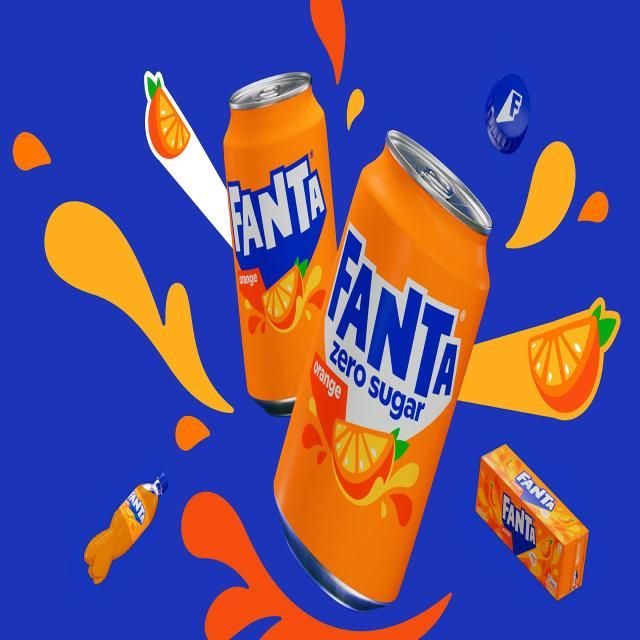fanta: (276, 97, 488, 607), (224, 64, 340, 424)
